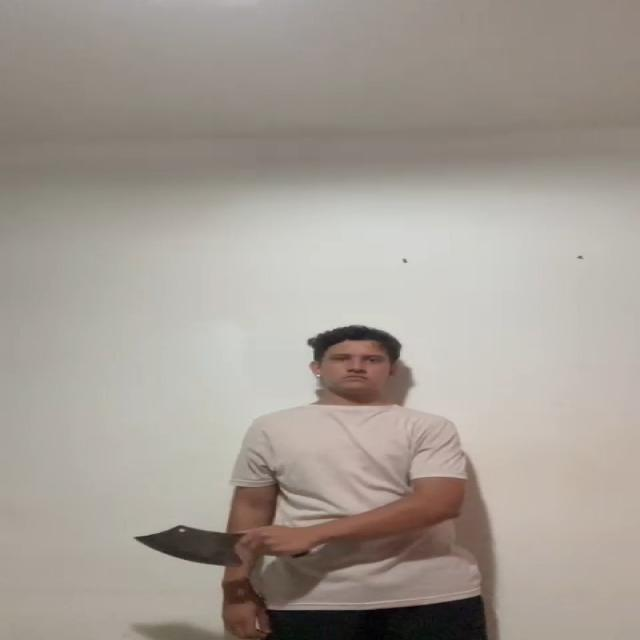knife: (133, 526, 238, 566)
